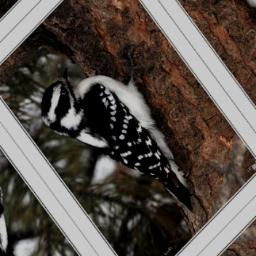Woodpecker: (31, 21, 231, 256)
